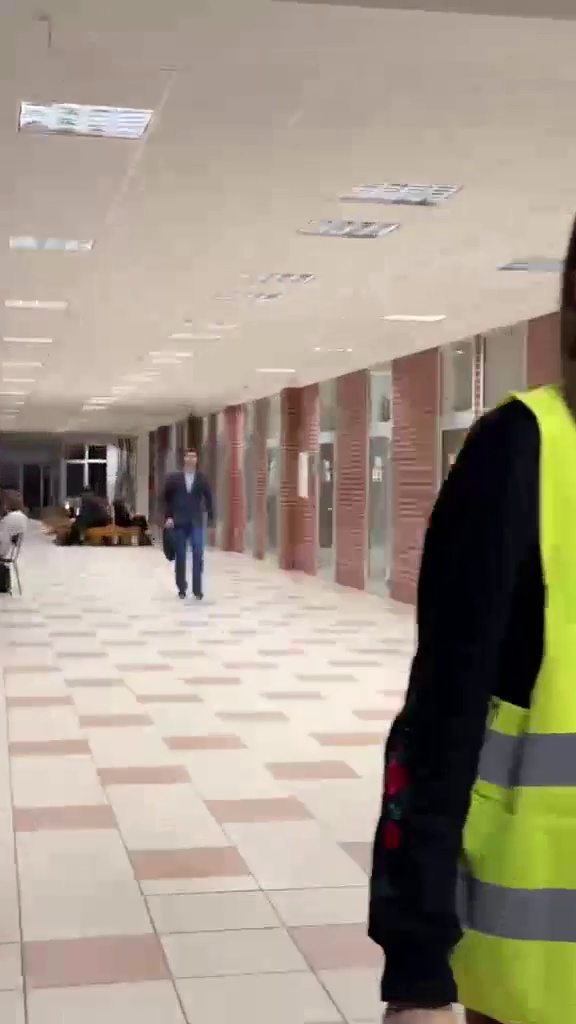no vest: (153, 444, 220, 599)
vest: (363, 195, 576, 1024)
